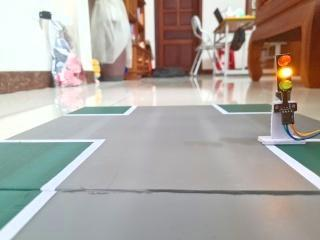yellow: (267, 47, 302, 105)
